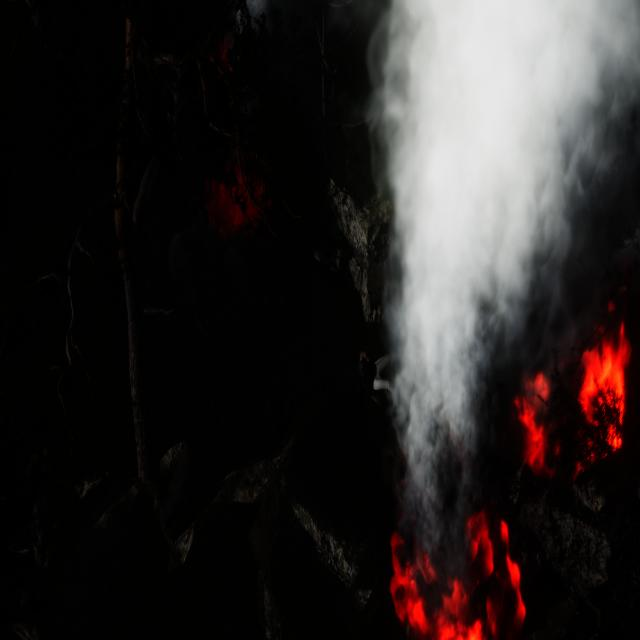Human: (356, 340, 410, 408)
